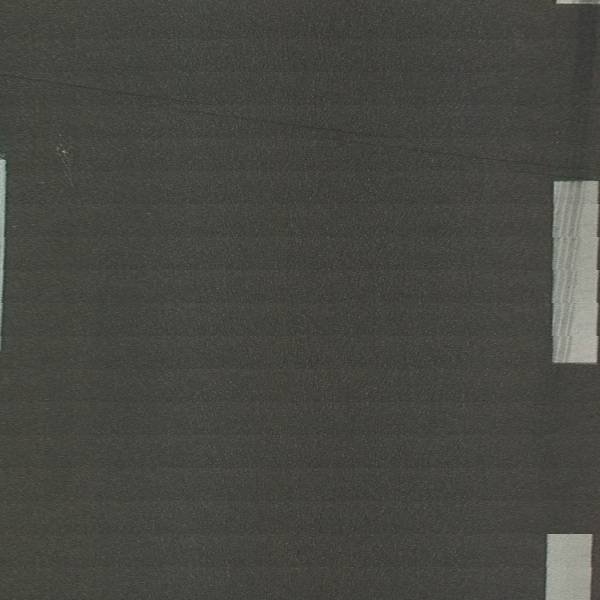road_damage: (162, 108, 547, 175)
